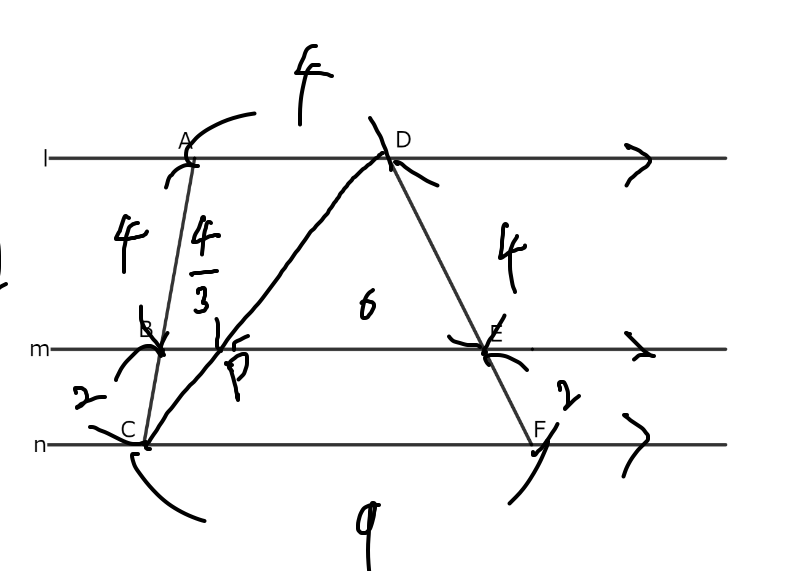Edge_Sparallel: (615, 134, 661, 195), (621, 409, 656, 481), (624, 320, 662, 367)
